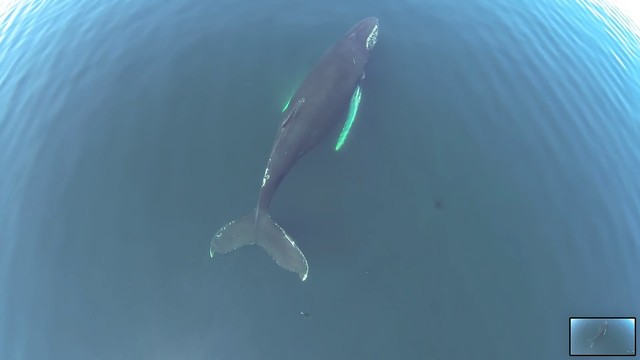whale: (206, 10, 390, 286)
